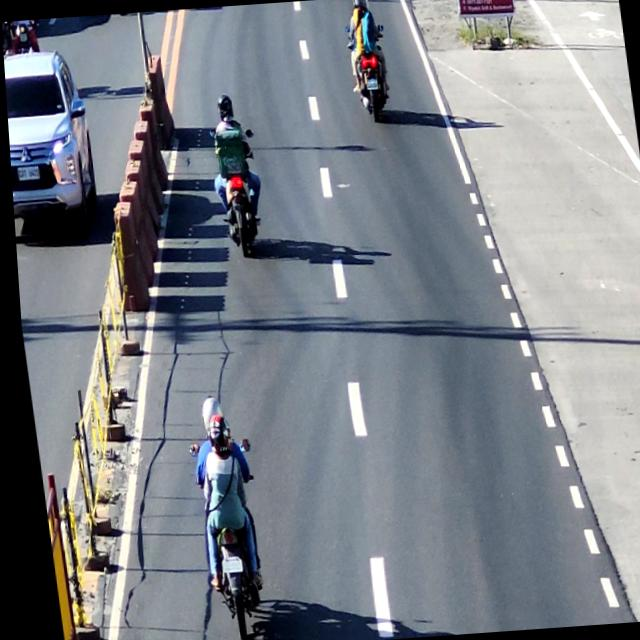License-Plate: (206, 550, 239, 576), (361, 76, 380, 89)
Motorcycle: (168, 390, 272, 640), (200, 90, 270, 257), (340, 0, 397, 138)
